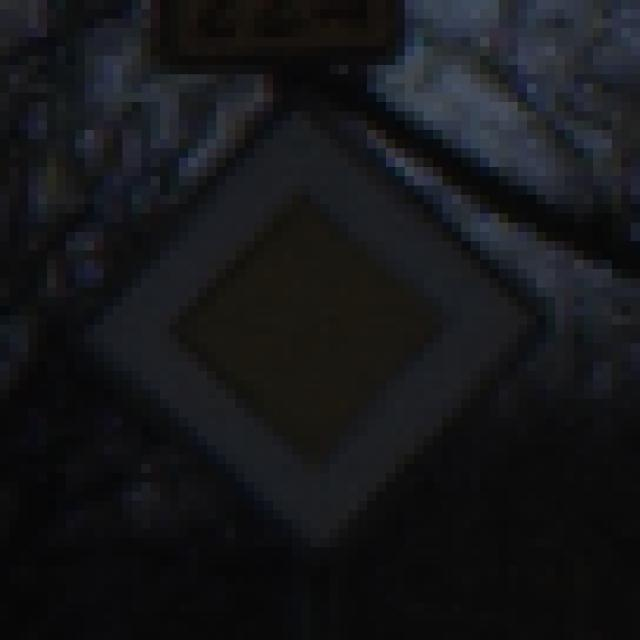Main Road: (58, 66, 585, 585)
